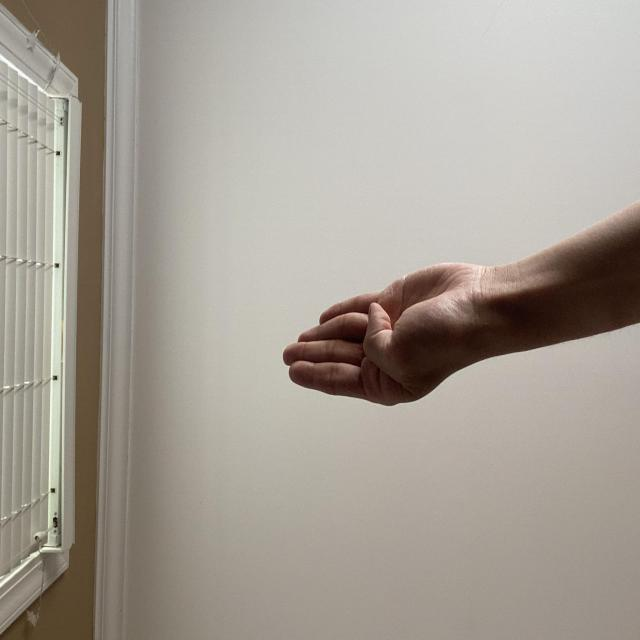B: (171, 369, 288, 640)
